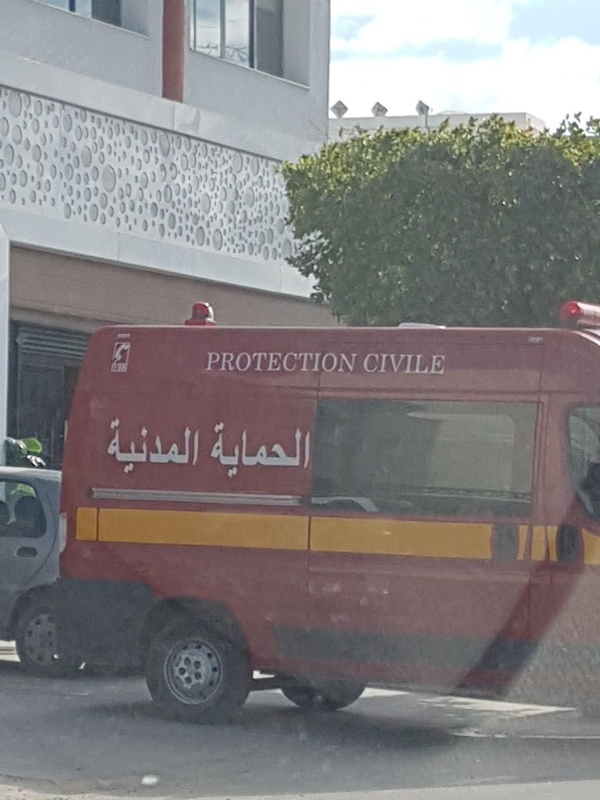text: (225, 422, 240, 481), (241, 422, 256, 481), (257, 422, 272, 481), (273, 422, 288, 481), (289, 422, 304, 481), (113, 417, 128, 473), (129, 417, 144, 473), (145, 417, 160, 473), (161, 417, 176, 473), (177, 417, 192, 473), (213, 422, 224, 481), (193, 417, 201, 473), (305, 422, 312, 481), (369, 353, 384, 376), (385, 353, 400, 376), (401, 353, 416, 376), (417, 353, 432, 376), (209, 352, 224, 372), (225, 352, 240, 372), (241, 352, 256, 372), (257, 352, 272, 372), (273, 352, 288, 372), (289, 352, 304, 372), (305, 352, 320, 372), (321, 352, 336, 372), (337, 352, 352, 372), (433, 353, 445, 376), (108, 417, 112, 473), (353, 352, 359, 372), (364, 353, 368, 376)
